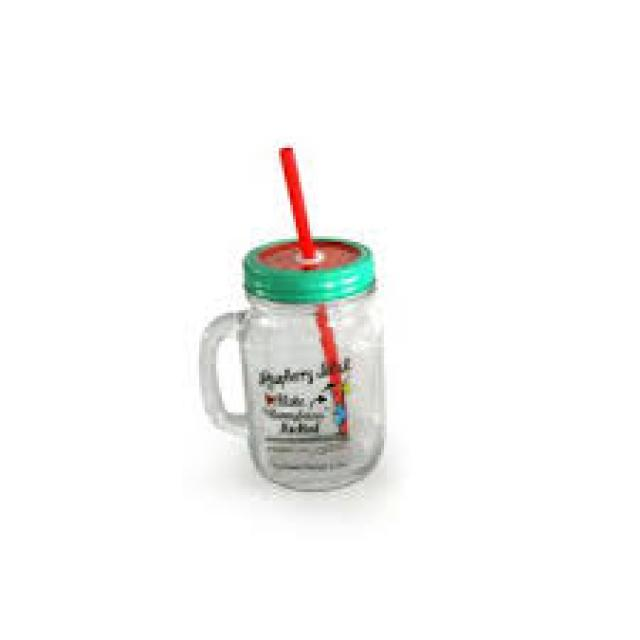glass: (199, 290, 384, 487)
metal: (242, 236, 373, 302)
